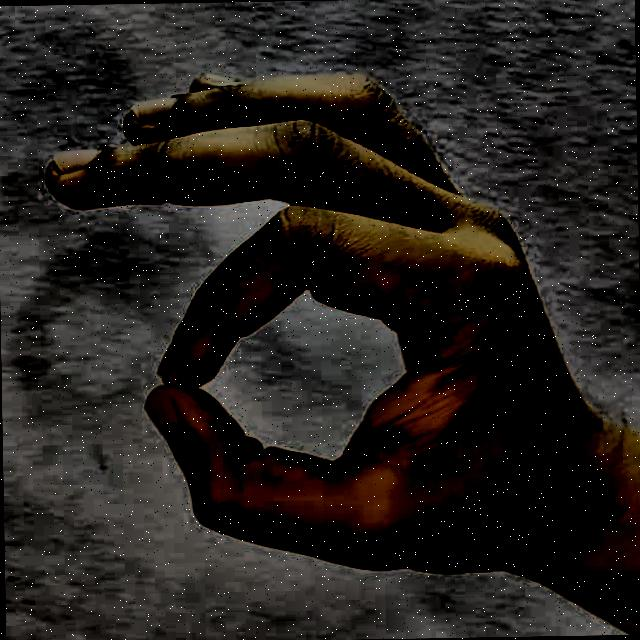Yo: (27, 23, 601, 634)
